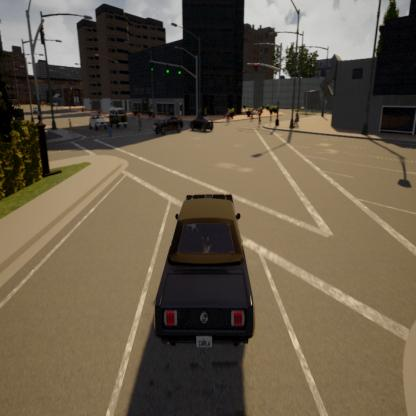Cars: (149, 181, 259, 350), (150, 111, 186, 140), (190, 110, 216, 138), (108, 104, 132, 130), (88, 109, 110, 134)
Pedestrian: (294, 107, 302, 141), (136, 111, 145, 140), (66, 115, 75, 139), (226, 106, 232, 128), (258, 110, 263, 129), (251, 108, 256, 127)
